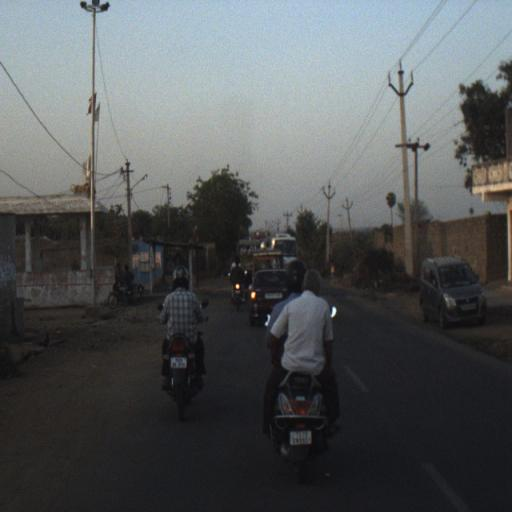street_light_0: (125, 174, 148, 199)
